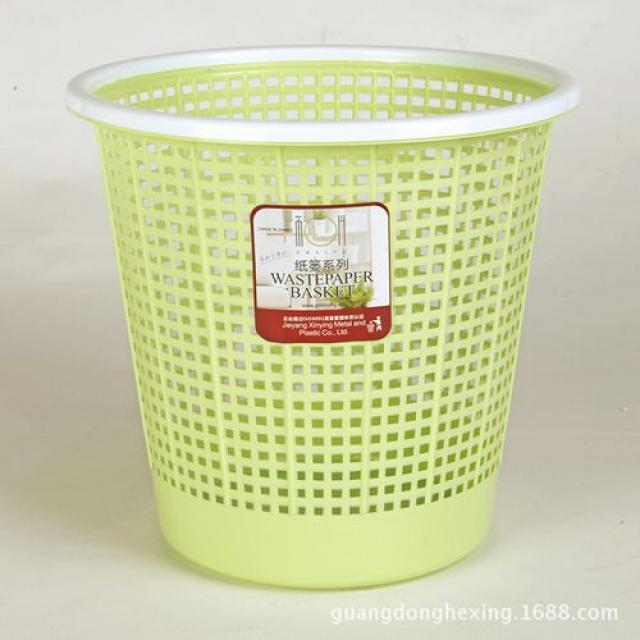Dustbin: (59, 37, 586, 596)
